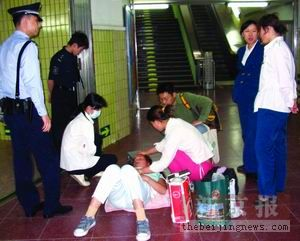fall: (70, 147, 168, 241)
